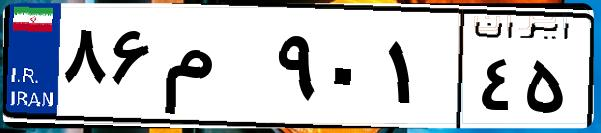0: (330, 28, 385, 110)
1: (385, 28, 445, 110)
4: (475, 38, 525, 113)
5: (525, 38, 570, 115)
6: (110, 28, 158, 98)
8: (57, 26, 110, 100)
9: (270, 28, 330, 110)
م: (158, 20, 270, 120)
